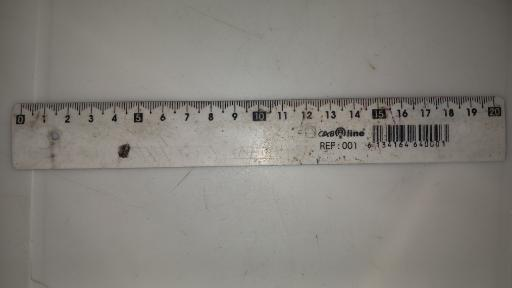Ruler: (13, 100, 506, 168)
